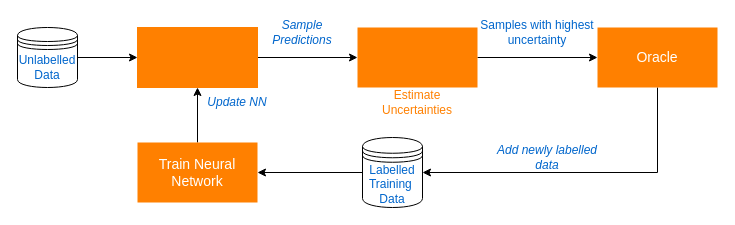
Some shapes in this 735 by 225 pixel diagram are drawn without their labels. The shapes that lost their labels are listed below. From the top down, each one's centre as x and y in pixels, then its label:
At (197,57): "Neural Network".
At (417,57): "Aquisition Function".
